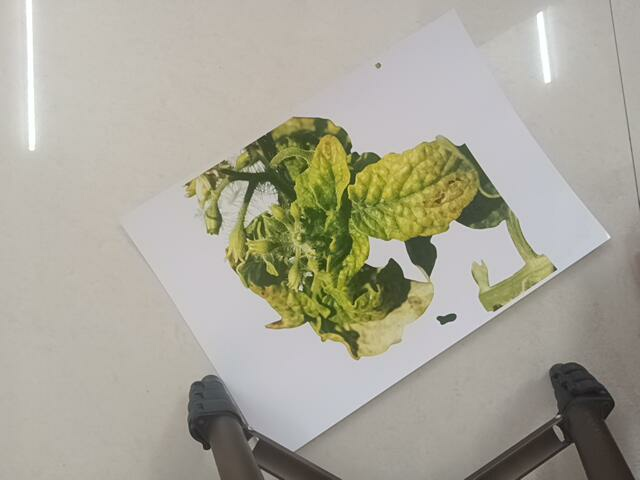Tomamto_Leaf_curl_virus: (187, 117, 568, 333)
